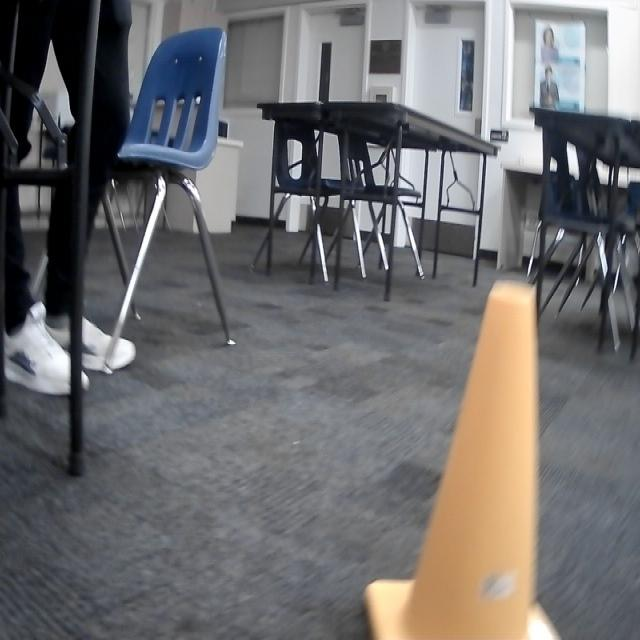cone: (364, 278, 563, 640)
